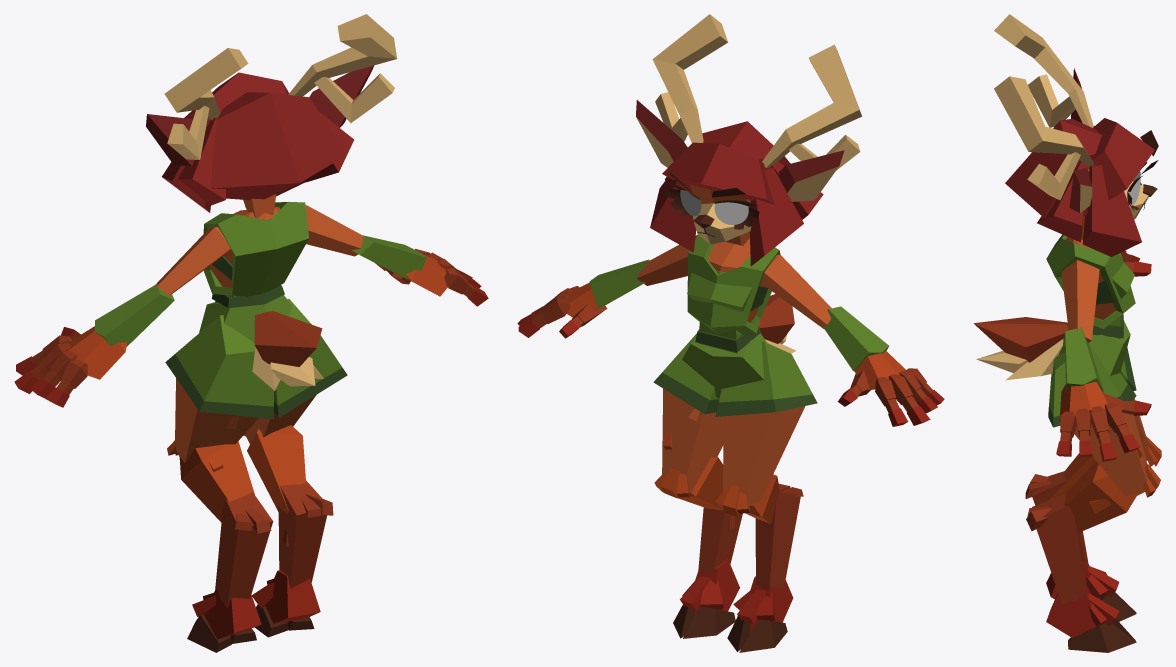
The model's file is rhoStatic.fbx.
The picture shows the model from 3 angles, left to right: view 1: azimuth 30°, elevation 25°; view 2: azimuth 150°, elevation 25°; view 3: azimuth 270°, elevation 25°; orthographic projection. The views are drawn at different scales.
Parts seen in each view (by area): view 1: rho; view 2: rho; view 3: rho.
Boxes of the visible parts, x1,y1,x2,y2 form: rho: (14, 14, 488, 652); rho: (517, 14, 944, 652); rho: (973, 14, 1161, 652).
Size of the model in its own units: 1.19 by 0.466 by 1.59.
